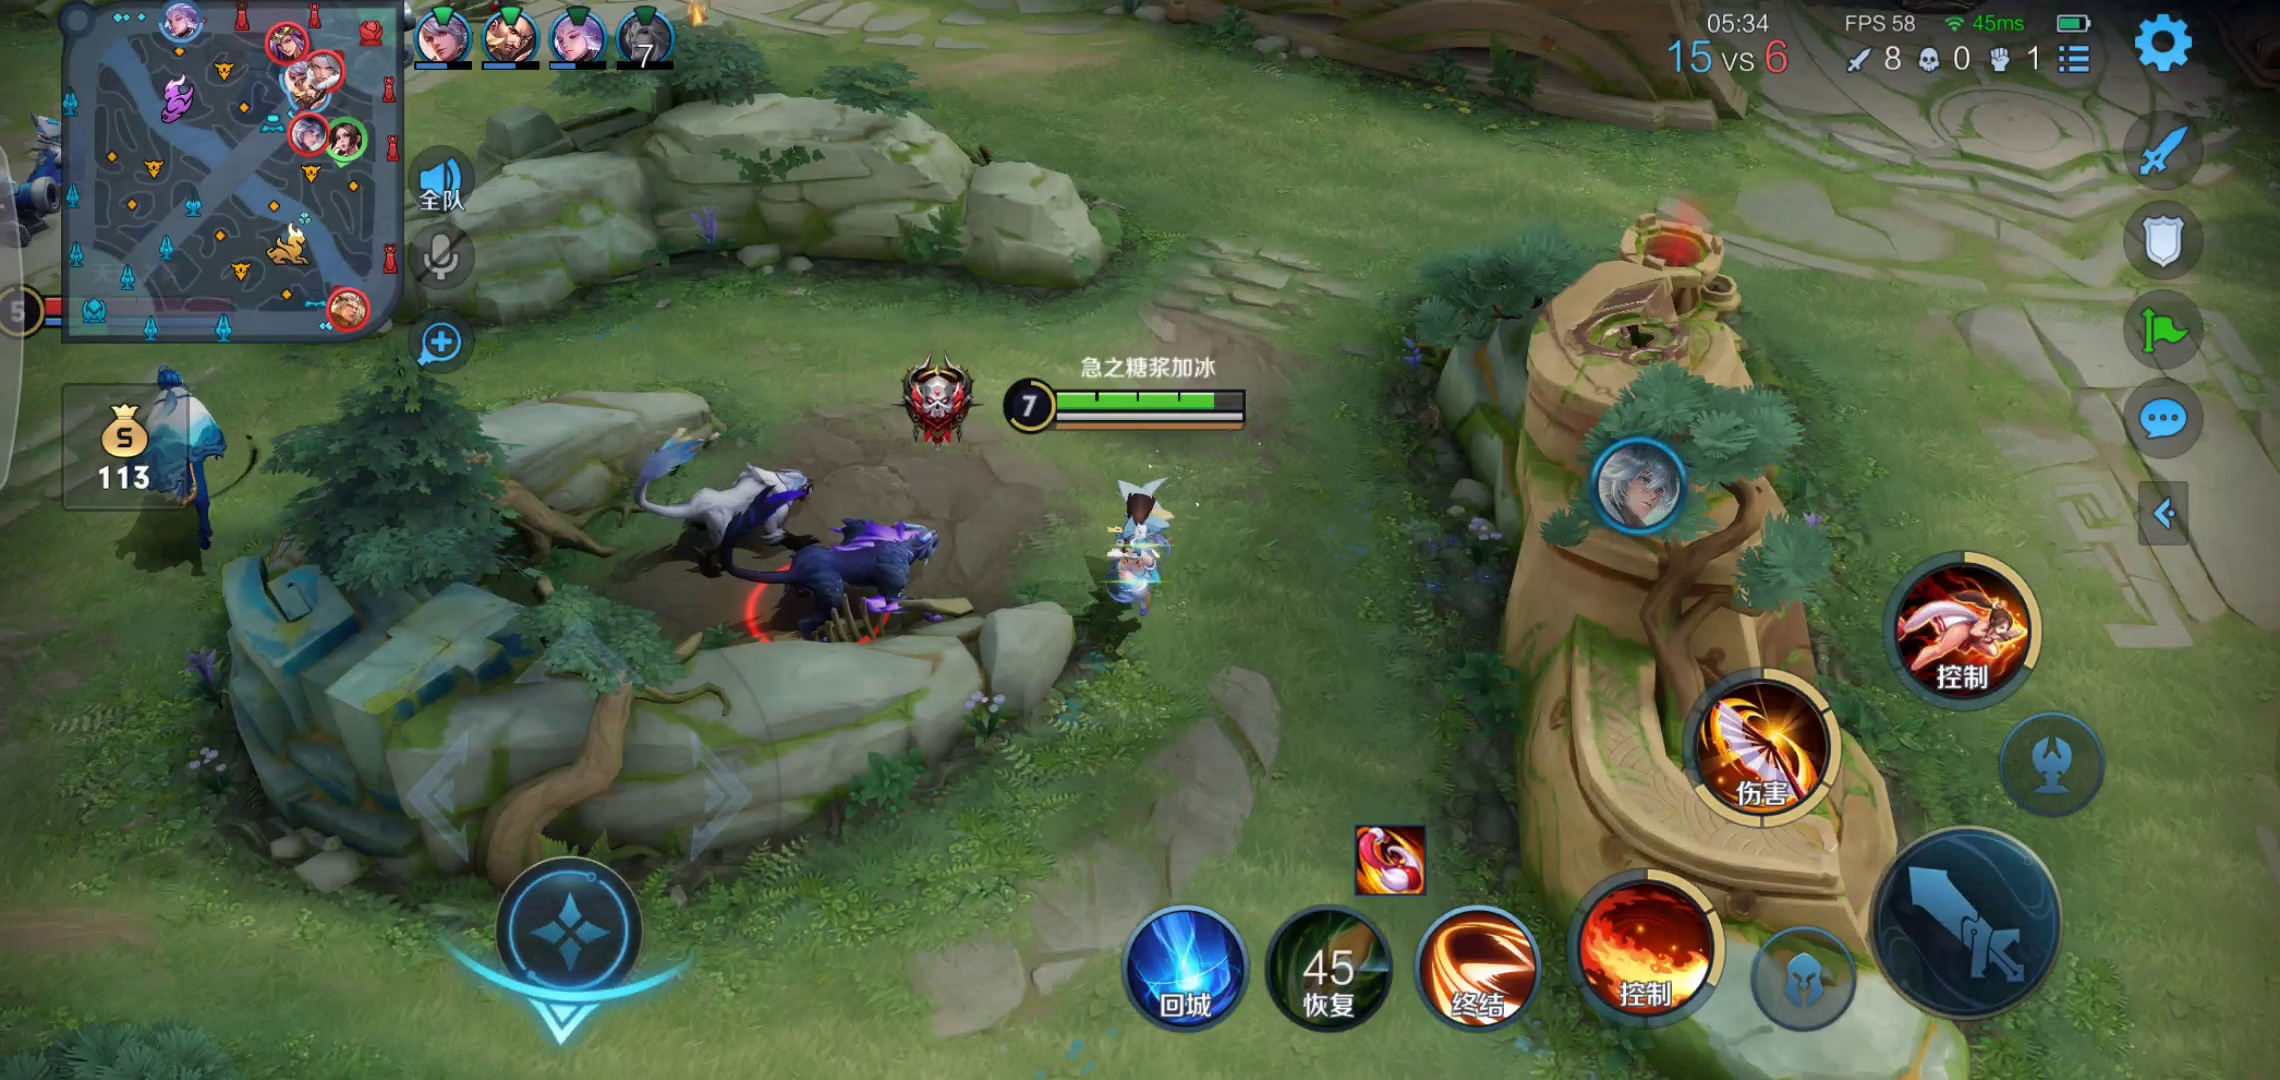hero: (89, 375, 249, 554), (1067, 480, 1200, 631)
soldier: (1, 109, 60, 266)
wild_monster: (628, 414, 976, 677)
